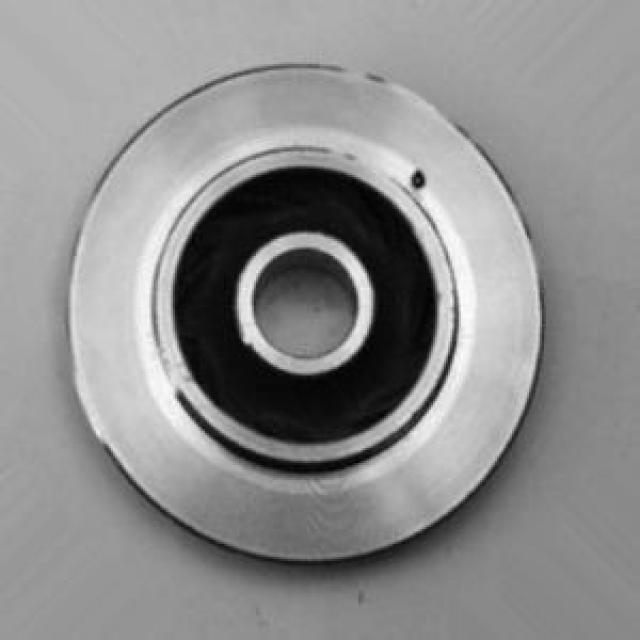Defect: (412, 153, 439, 204)
